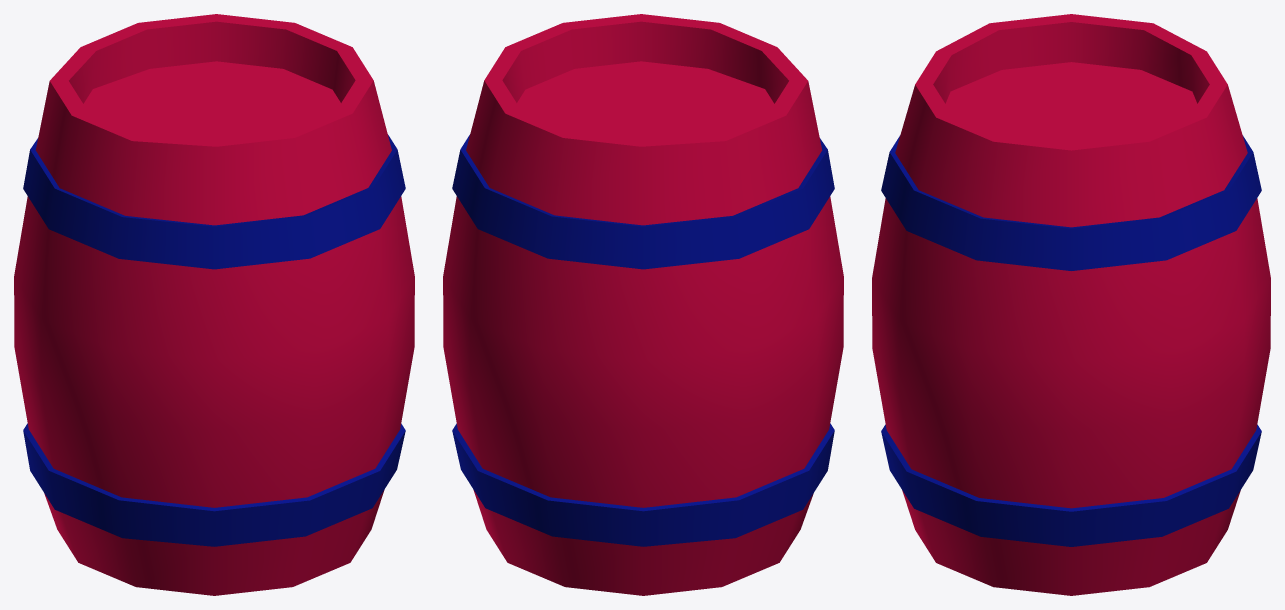
File: Barrel.FBX
3 views of the same model, side by side, from view 1: azimuth 30°, elevation 25°; view 2: azimuth 150°, elevation 25°; view 3: azimuth 270°, elevation 25° (orthographic).
Visible parts, largest first — view 1: barrel_low; view 2: barrel_low; view 3: barrel_low.
Part boxes in pixels (x1,y1,x2,y2): barrel_low: [14, 14, 414, 595]; barrel_low: [443, 14, 843, 595]; barrel_low: [872, 14, 1270, 595].
Size of the model in its own units: 28.96 by 35.78 by 28.96.
